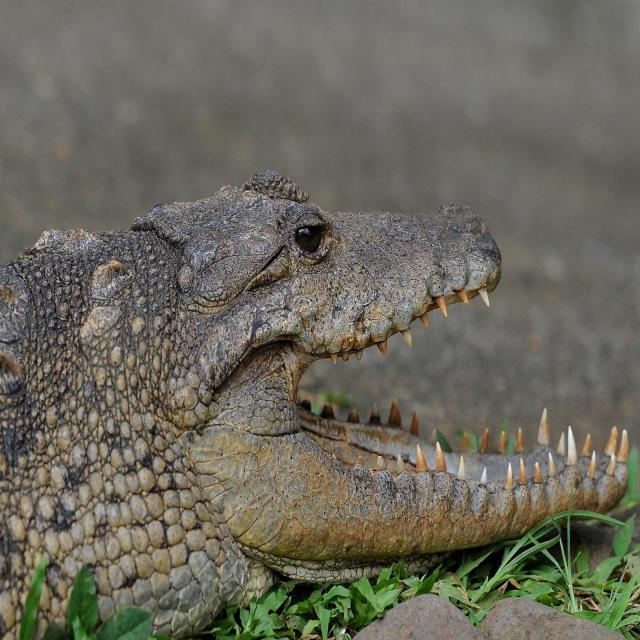crocodile: (0, 120, 640, 640)
